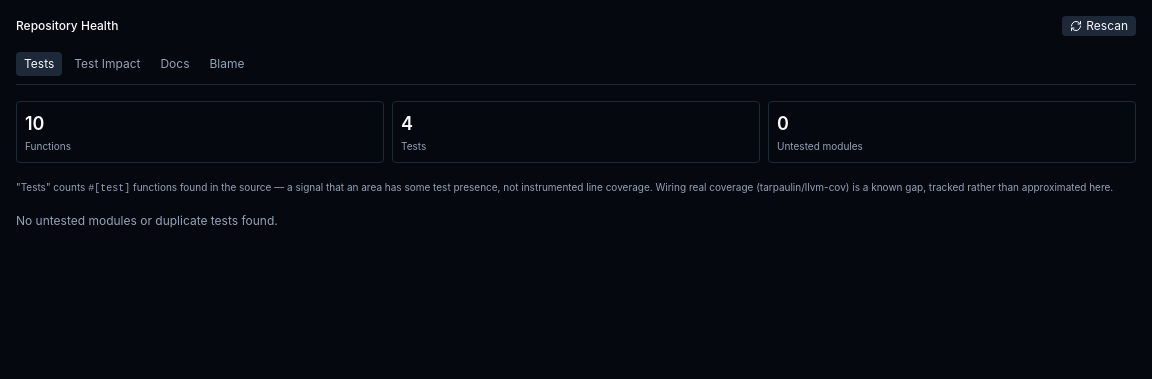
Test: RepoHealthPanel › Test Impact tab looks up covering tests for several symbols at once
The image size is (1152, 379).
Expected: the text "No untested modules or duplicate tests found." is shown, [16,213,278,228]
Click the button "test impact".
click(107, 64)  # box [66,52,148,76]
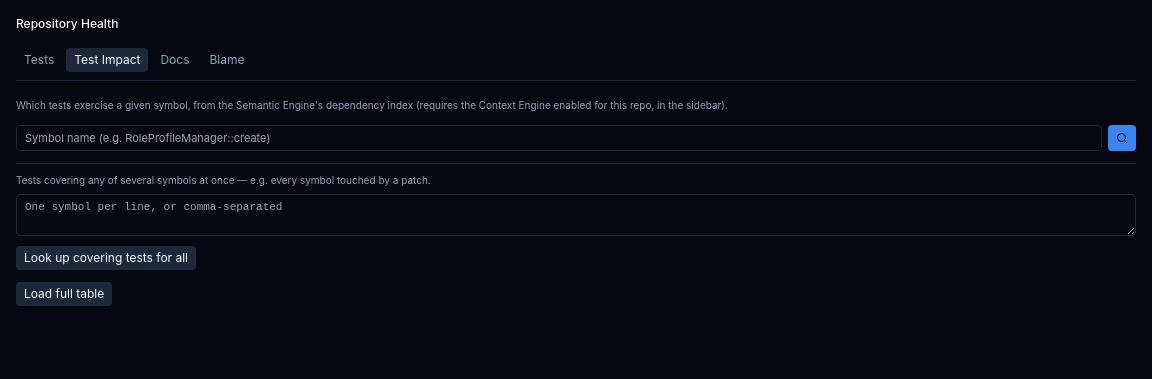
Type "fn_a, fn_b" into the text box with placeholder "One symbol per line, or comma-separated".
click(576, 215); type("fn_a, fn_b")  # box [16,194,1136,236]
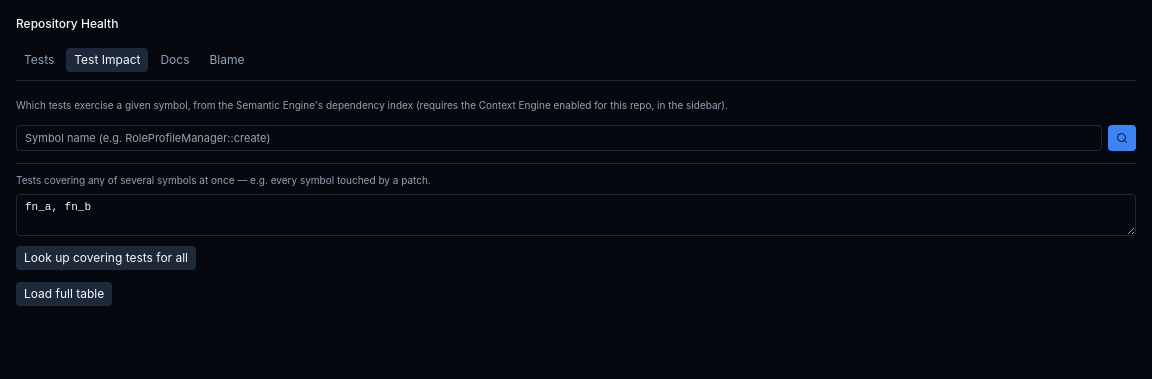
Click the button "Look up covering tests for all".
click(106, 258)  # box [16,246,196,270]
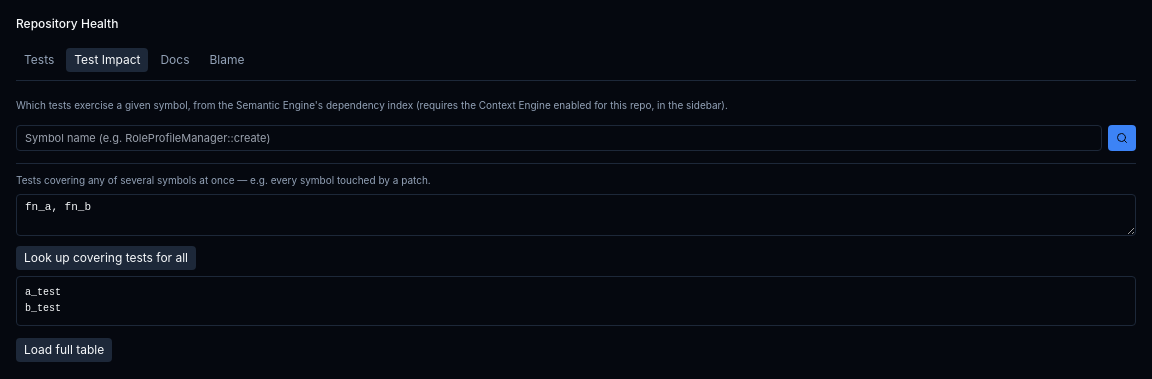
Now the text "a_test" is shown, box [25,287,61,298]
Now the text "b_test" is shown, box [25,303,61,314]
